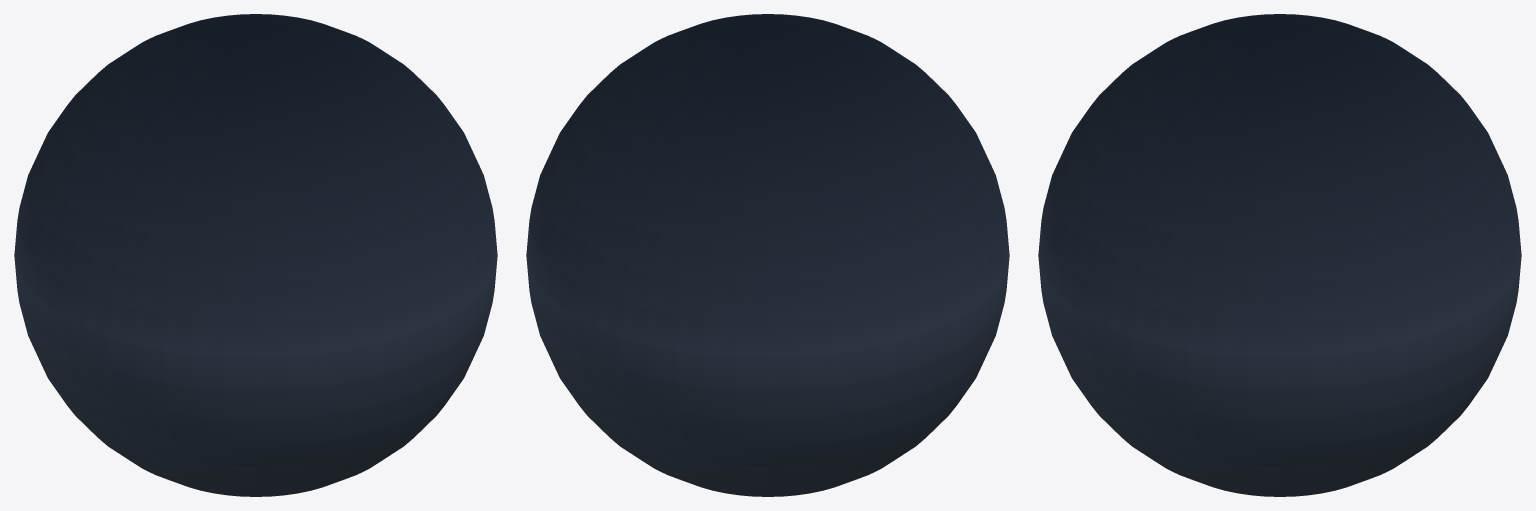
The model's file is weather_sky_active.glb.
3 renders of one model, left to right at view 1: azimuth 30°, elevation 25°; view 2: azimuth 150°, elevation 25°; view 3: azimuth 270°, elevation 25°, orthographic.
Visible parts, largest first — view 1: NightSky; view 2: NightSky; view 3: NightSky.
Part boxes in pixels (box(x1,y1,x2,y2)): NightSky: box(14, 14, 497, 496); NightSky: box(526, 14, 1009, 496); NightSky: box(1038, 14, 1521, 496).
Size of the model in its own units: 60 by 60 by 60.
